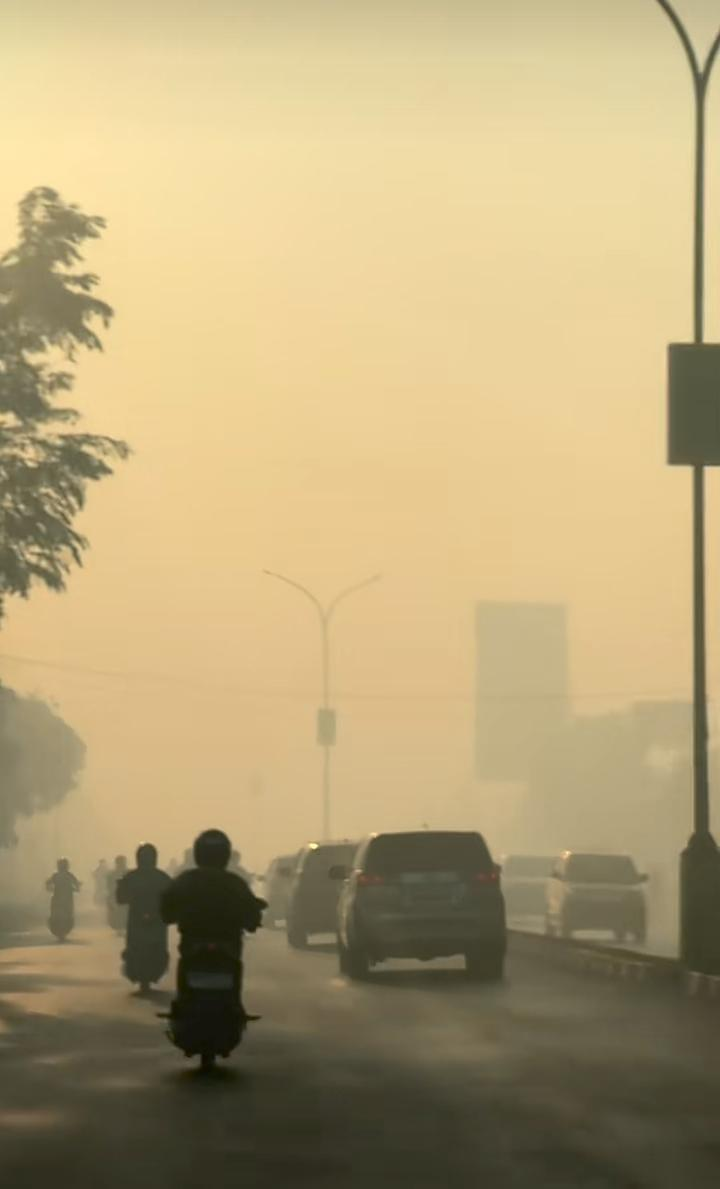Deteksi-Objek-Citra-Berasap: (0, 0, 720, 1004)
Gedung: (557, 701, 686, 853), (475, 602, 568, 784)
Kendaraan: (331, 829, 507, 983), (157, 903, 264, 1073), (541, 850, 651, 946), (282, 839, 365, 952), (499, 854, 559, 932), (119, 908, 169, 994), (261, 855, 297, 927), (47, 890, 80, 944)
Manusia: (158, 829, 268, 978), (114, 842, 175, 968), (45, 858, 83, 924), (94, 858, 115, 917), (112, 854, 131, 903)
Vegetasi: (0, 184, 132, 626), (0, 678, 90, 846)
